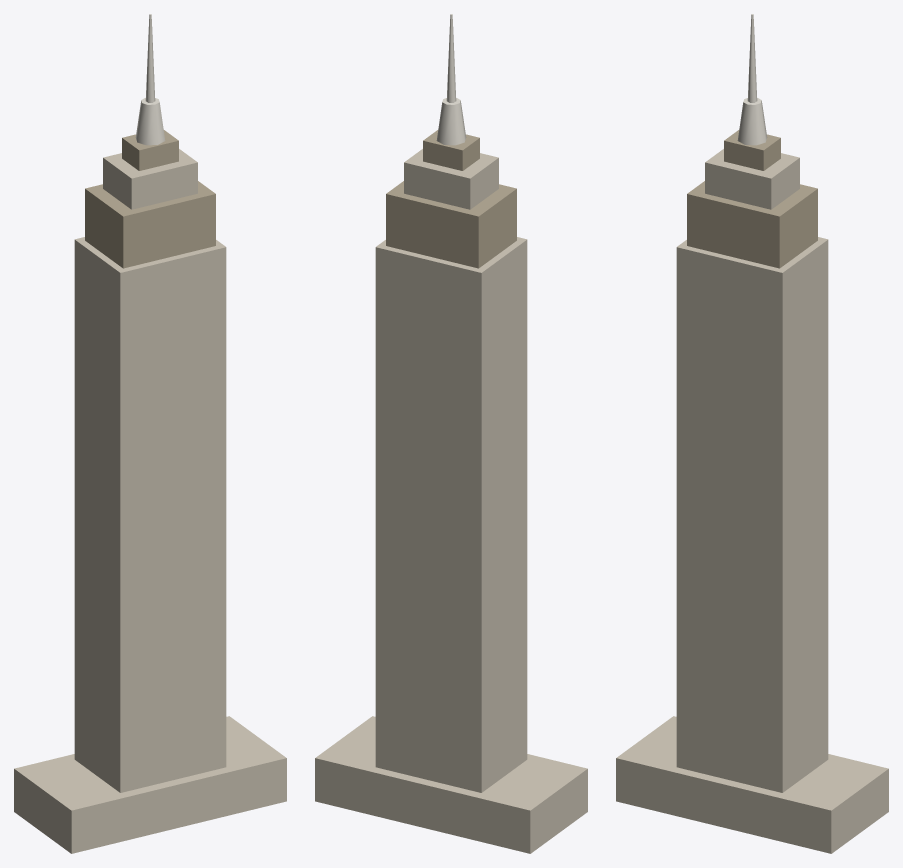
3 views of the same model, side by side, from view 1: azimuth 30°, elevation 25°; view 2: azimuth 150°, elevation 25°; view 3: azimuth 330°, elevation 25° (orthographic).
Size of the model in its own units: 130 by 457 by 60.
